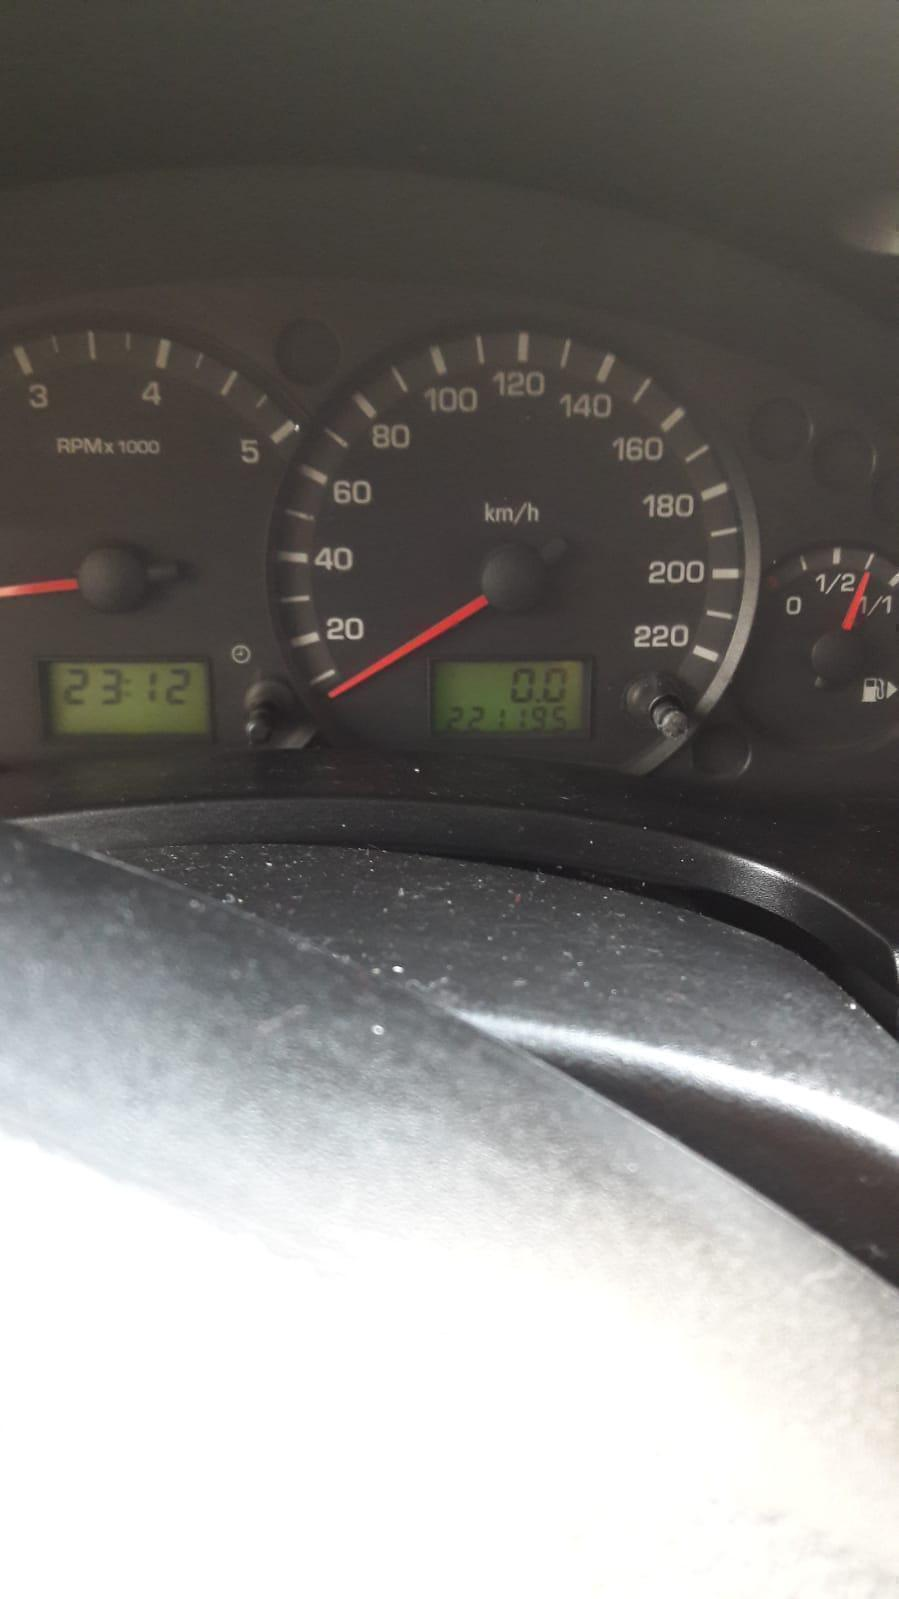,: (535, 697, 541, 704)
0: (510, 666, 535, 703), (543, 667, 566, 701)
1: (518, 708, 526, 730), (497, 708, 505, 729)
2: (467, 705, 484, 731), (446, 706, 463, 730)
5: (551, 705, 568, 730)
9: (530, 706, 546, 730)
odometer: (429, 658, 587, 735)
